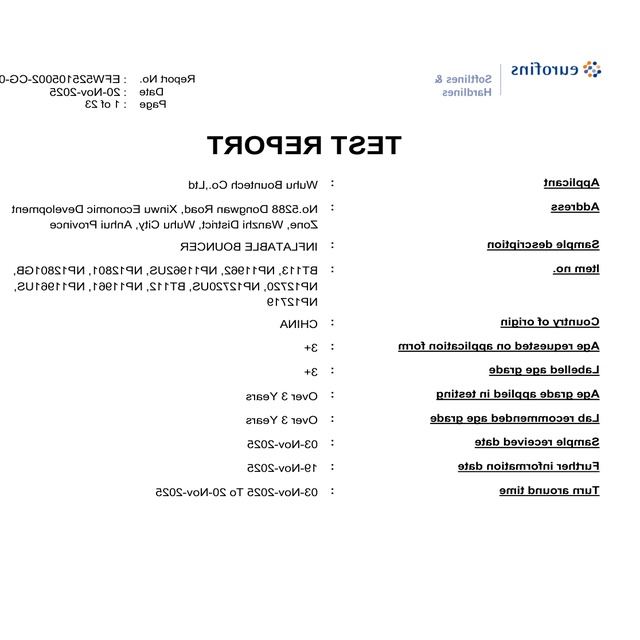eurofins: (507, 58, 605, 90)
